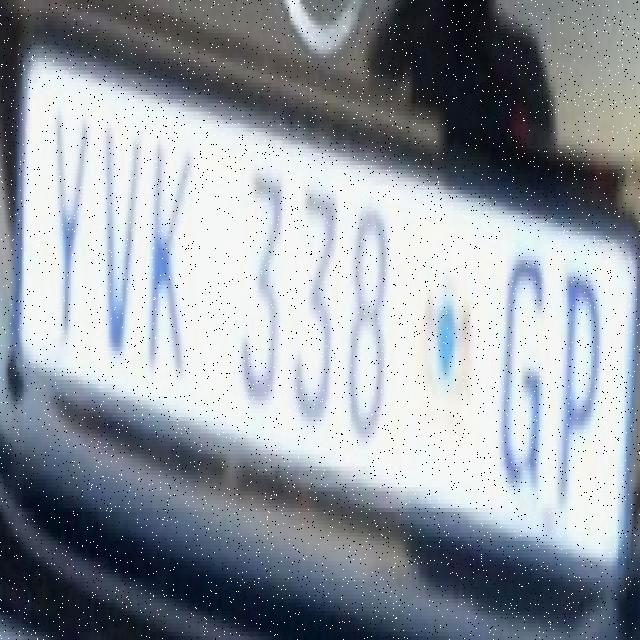licenseplate: (26, 54, 618, 530)
